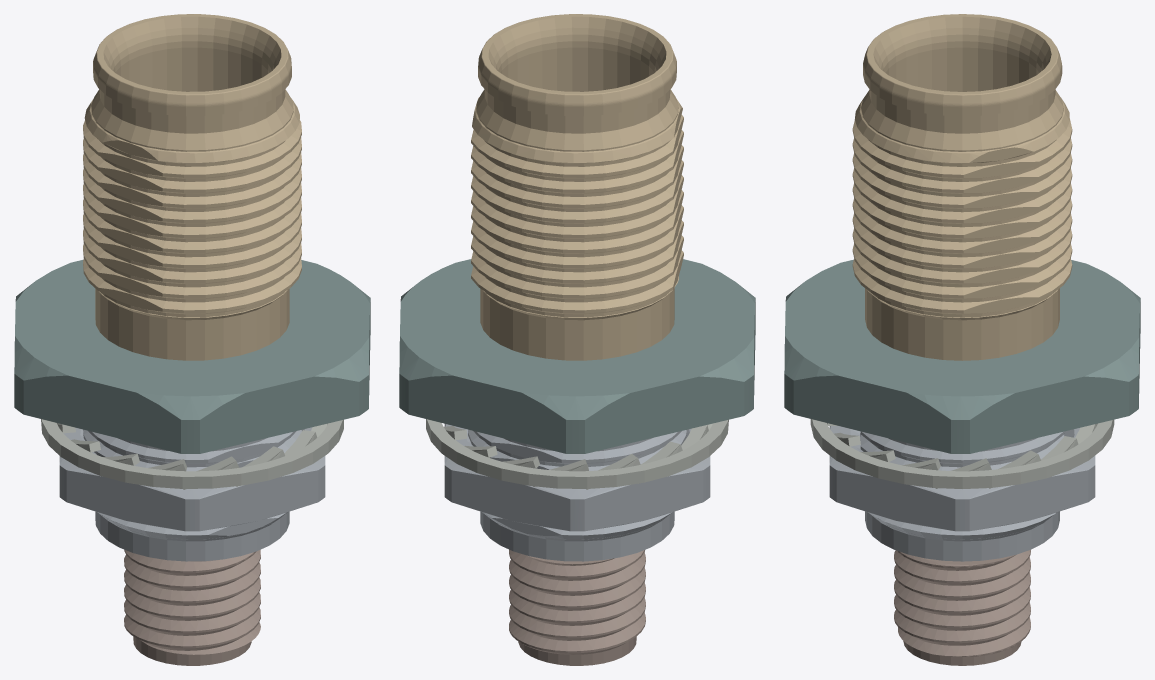
Rendered from star-nex10-sma-adapter.glb.
The picture shows the model from 3 angles, left to right: view 1: azimuth 30°, elevation 25°; view 2: azimuth 150°, elevation 25°; view 3: azimuth 270°, elevation 25°; orthographic projection.
Visible parts, largest first — view 1: part-1, part-2, part-4, part-5, part-3; view 2: part-1, part-2, part-4, part-5, part-3; view 3: part-1, part-2, part-4, part-5, part-3.
Boxes of the visible parts, left/top/right/bottom form: part-1: left=83, top=14, right=301, bottom=360; part-2: left=14, top=260, right=370, bottom=453; part-4: left=59, top=427, right=325, bottom=561; part-5: left=124, top=549, right=260, bottom=665; part-3: left=41, top=419, right=343, bottom=489; part-1: left=471, top=14, right=683, bottom=360; part-2: left=399, top=259, right=755, bottom=453; part-4: left=444, top=424, right=710, bottom=561; part-5: left=509, top=549, right=645, bottom=665; part-3: left=426, top=419, right=728, bottom=489; part-1: left=852, top=14, right=1072, bottom=360; part-2: left=784, top=259, right=1140, bottom=453; part-4: left=829, top=426, right=1095, bottom=561; part-5: left=894, top=550, right=1030, bottom=665; part-3: left=810, top=419, right=1114, bottom=488.
Bounding box in the file's own units: 18 × 29.22 × 16.08.
